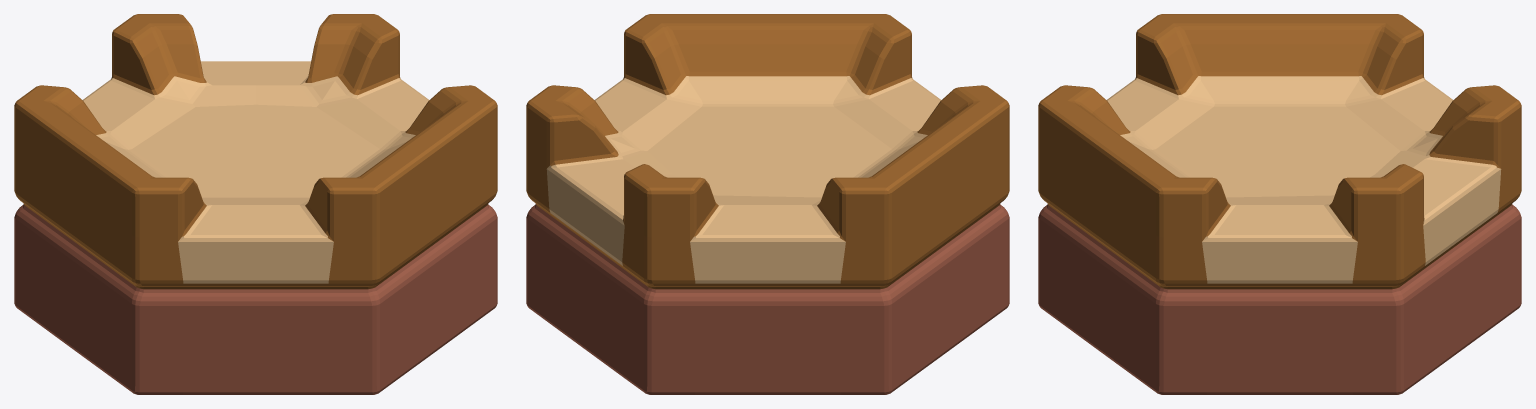
File: my_road_1235.fbx
3 views of the same model, side by side, from view 1: azimuth 30°, elevation 25°; view 2: azimuth 150°, elevation 25°; view 3: azimuth 270°, elevation 25° (orthographic).
Visible parts, largest first — view 1: Circle.010; view 2: Circle.010; view 3: Circle.010.
Boxes of the visible parts, bbox=[...] form: Circle.010: bbox=[14, 14, 497, 394]; Circle.010: bbox=[526, 14, 1009, 394]; Circle.010: bbox=[1038, 14, 1521, 394].
Bounding box in the file's own units: 200 × 109 × 230.
